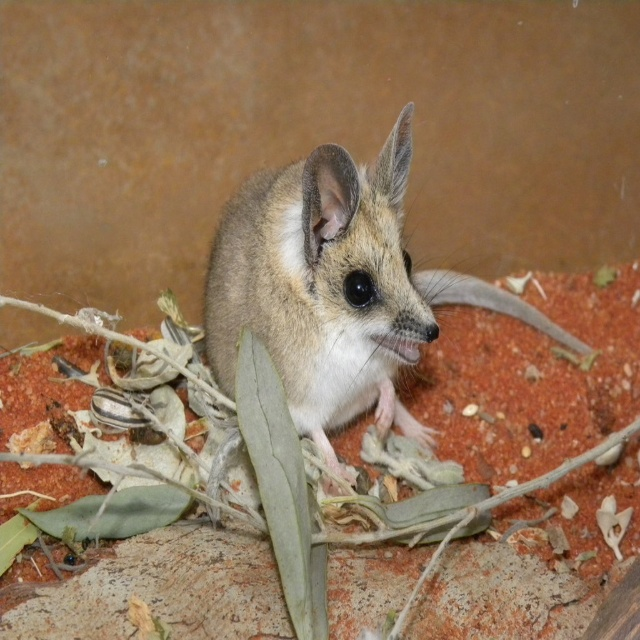Mouse: (200, 102, 593, 498)
